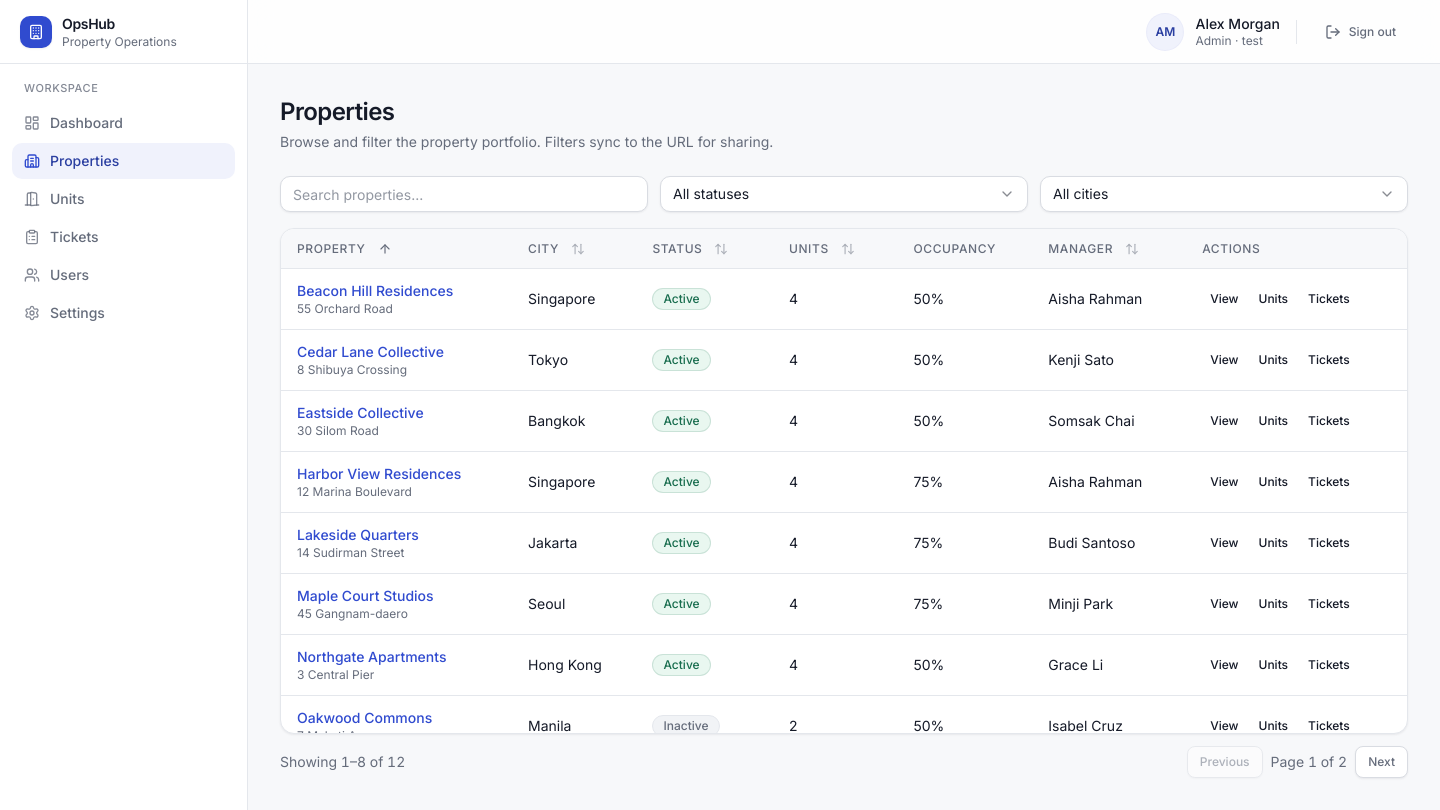
Test: Properties page › filters properties by search and syncs the URL
Expected: the heading "Properties" is shown, [280,97,394,126]
Expected: the link "Harbor View Residences" is shown, [297,465,461,482]
Step 1. Type "Cedar Lane" into the search field labelled "Search properties" → (464, 194), box [280,176,648,212]
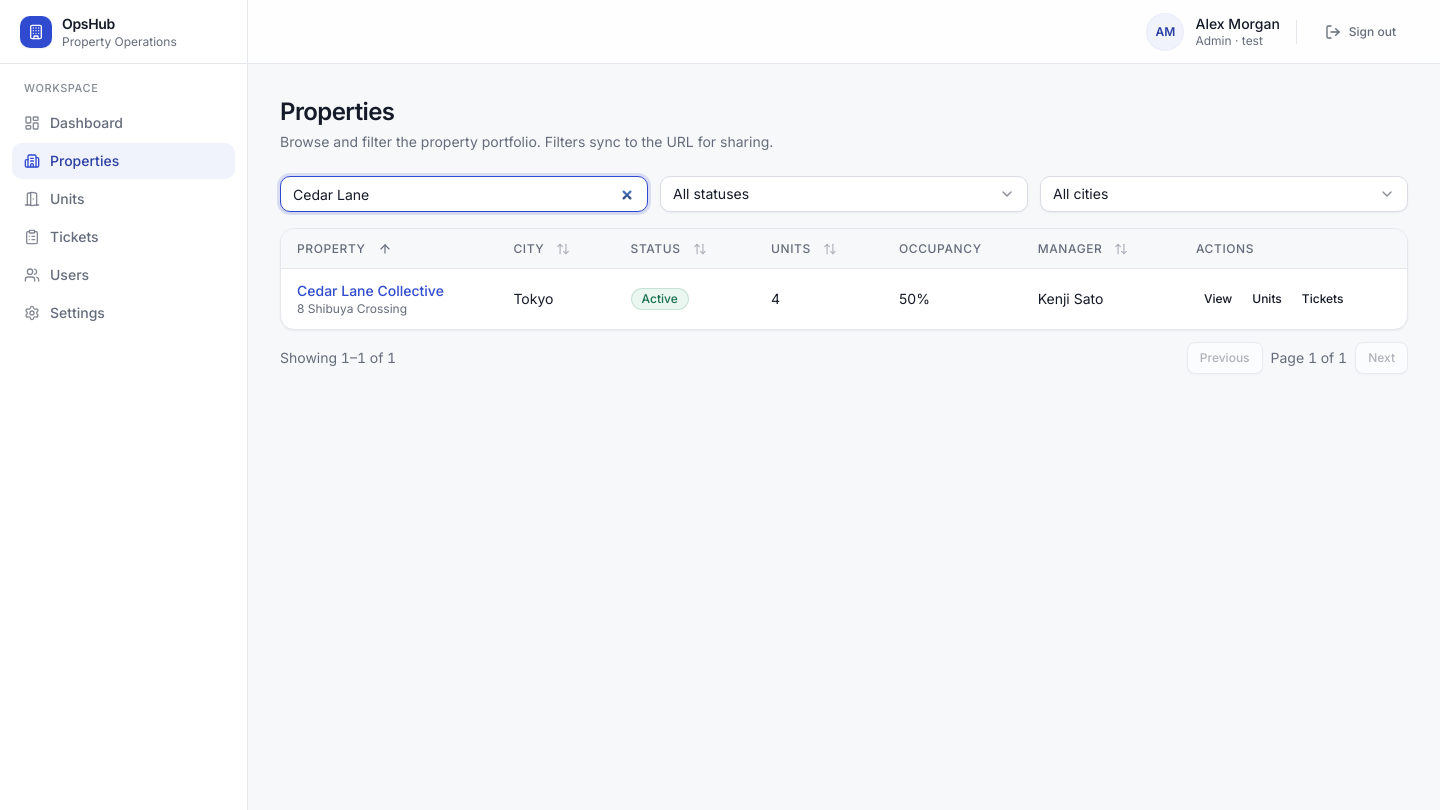
Expected: the link "Cedar Lane Collective" is shown, [297,282,444,299]
Now the link "Harbor View Residences" is gone
